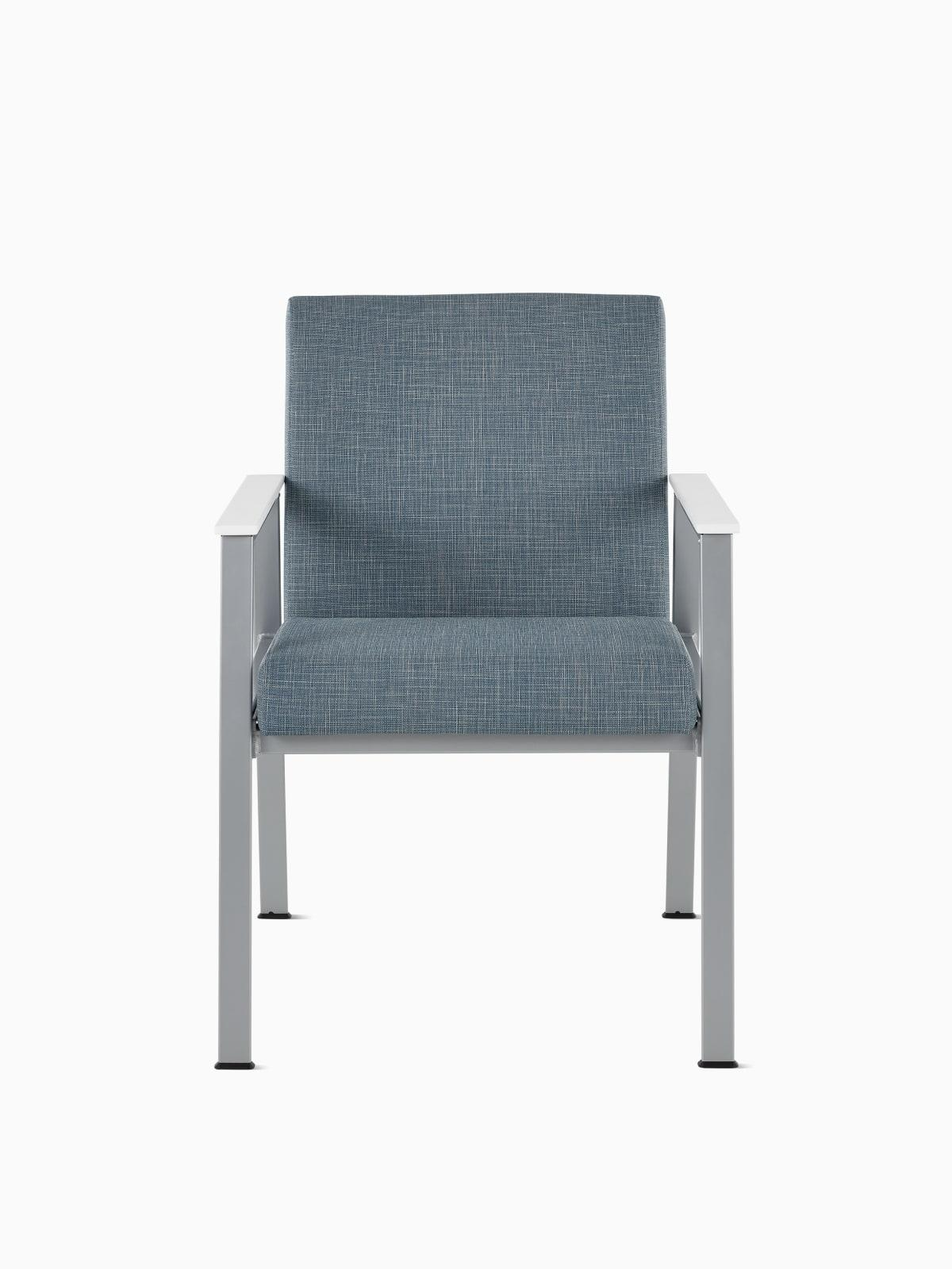chair: (221, 289, 737, 1086)
